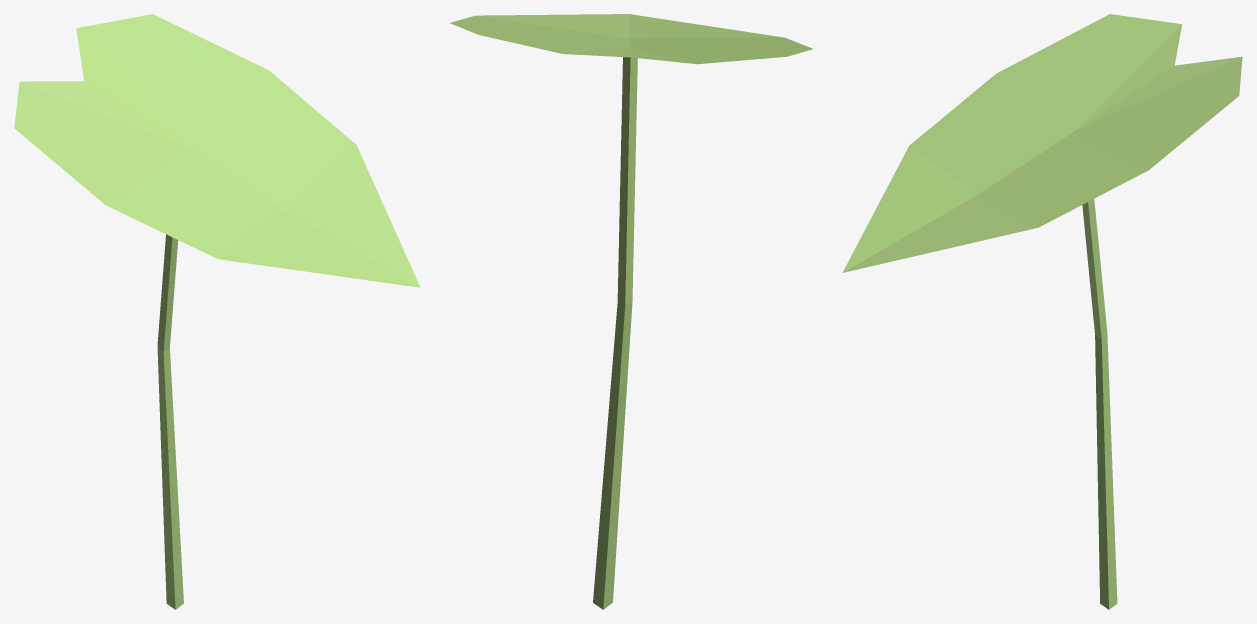
The model's file is Plant_d_OneS_03.fbx.
The picture shows the model from 3 angles, left to right: view 1: azimuth 30°, elevation 25°; view 2: azimuth 150°, elevation 25°; view 3: azimuth 270°, elevation 25°; orthographic projection. The views are drawn at different scales.
Visible parts, largest first — view 1: Plant_d_OneS_03; view 2: Plant_d_OneS_03; view 3: Plant_d_OneS_03.
Part boxes in pixels (<box>): Plant_d_OneS_03: <box>14,14,420,609</box>; Plant_d_OneS_03: <box>450,14,812,609</box>; Plant_d_OneS_03: <box>842,14,1242,609</box>.
Size of the model in its own units: 0.4731 by 0.7909 by 0.5377.
